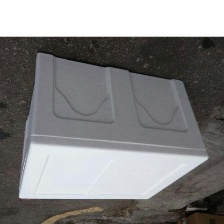foam_box: (12, 50, 212, 205)
